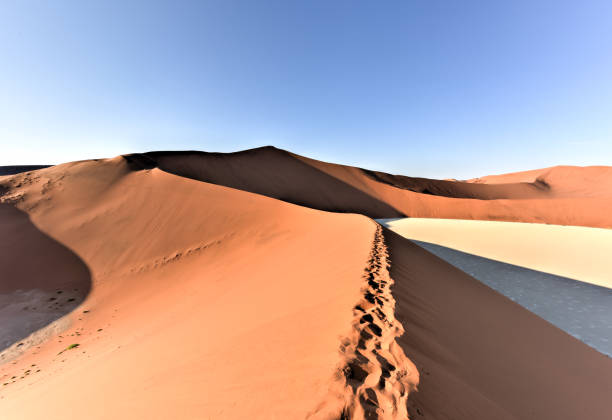human_foot_print: (337, 220, 407, 416)
